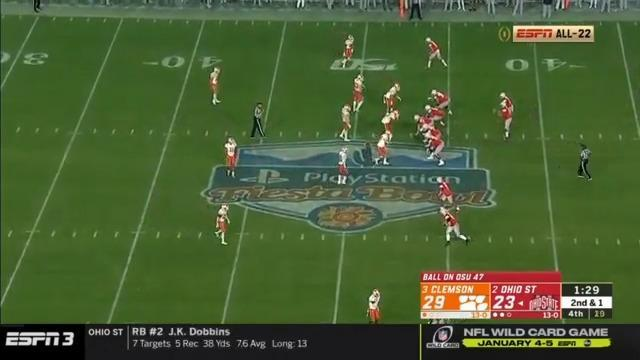player: (439, 205, 471, 247), (435, 176, 463, 216), (214, 202, 233, 247), (423, 37, 448, 71), (366, 286, 386, 325), (424, 135, 447, 168), (338, 102, 356, 143), (381, 82, 402, 117), (372, 130, 391, 168), (499, 97, 515, 142), (225, 137, 241, 179), (379, 109, 400, 141), (208, 64, 223, 108), (337, 147, 353, 187), (341, 33, 359, 68), (351, 74, 367, 113), (432, 88, 453, 115), (414, 113, 437, 136), (424, 105, 446, 127), (420, 125, 443, 142), (498, 91, 515, 113)
ref: (575, 141, 593, 184), (250, 101, 265, 143), (408, 0, 424, 22), (27, 0, 44, 15)
